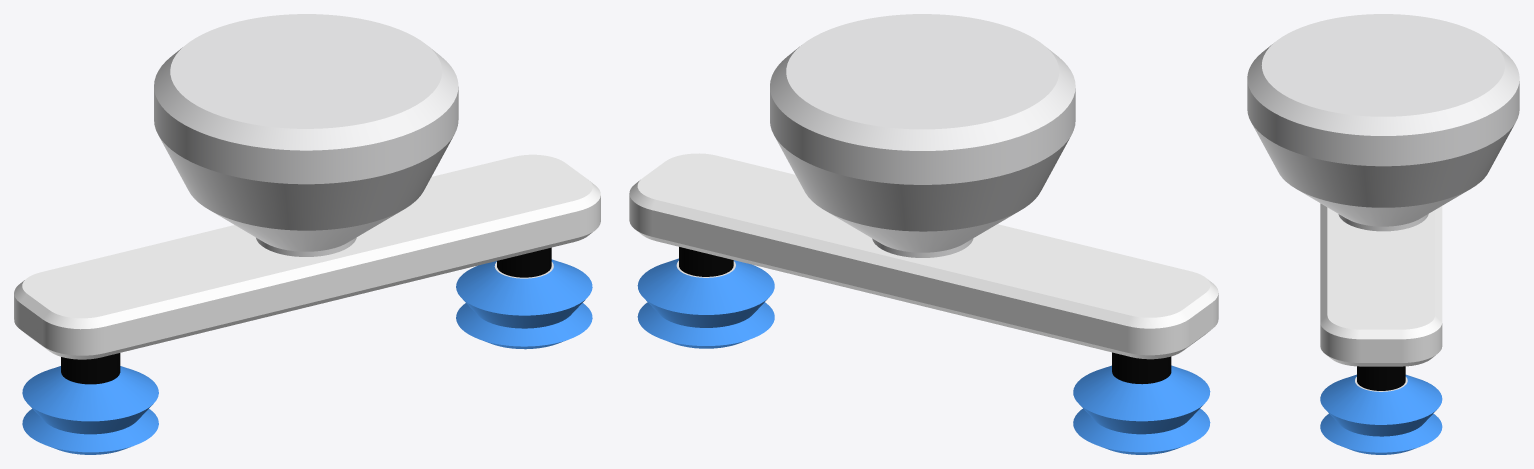
Rendered from link_5_suctioncup.dae.
3 renders of one model, left to right at view 1: azimuth 30°, elevation 25°; view 2: azimuth 150°, elevation 25°; view 3: azimuth 270°, elevation 25°, orthographic. The views are drawn at different scales.
Visible parts, largest first — view 1: link_5_suctioncup; view 2: link_5_suctioncup; view 3: link_5_suctioncup.
Boxes of the visible parts, x1,y1,x2,y2 form: link_5_suctioncup: (14, 14, 600, 454); link_5_suctioncup: (629, 14, 1218, 454); link_5_suctioncup: (1247, 14, 1519, 454).
Size of the model in its own units: 0.1569 by 0.075 by 0.0838.
